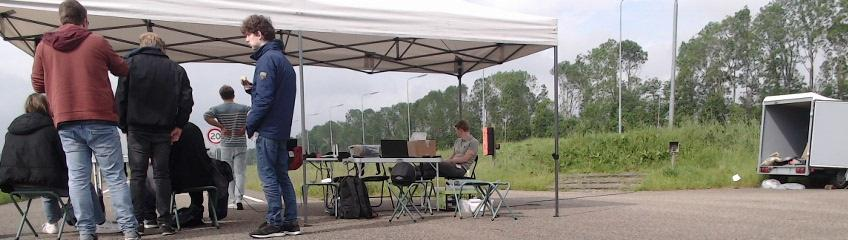Speed-limit-20km-h-: (207, 128, 221, 144)
